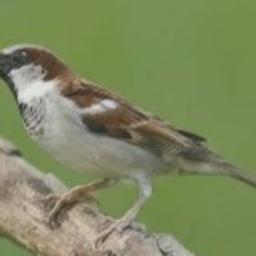Sparrow: (0, 43, 256, 246)
